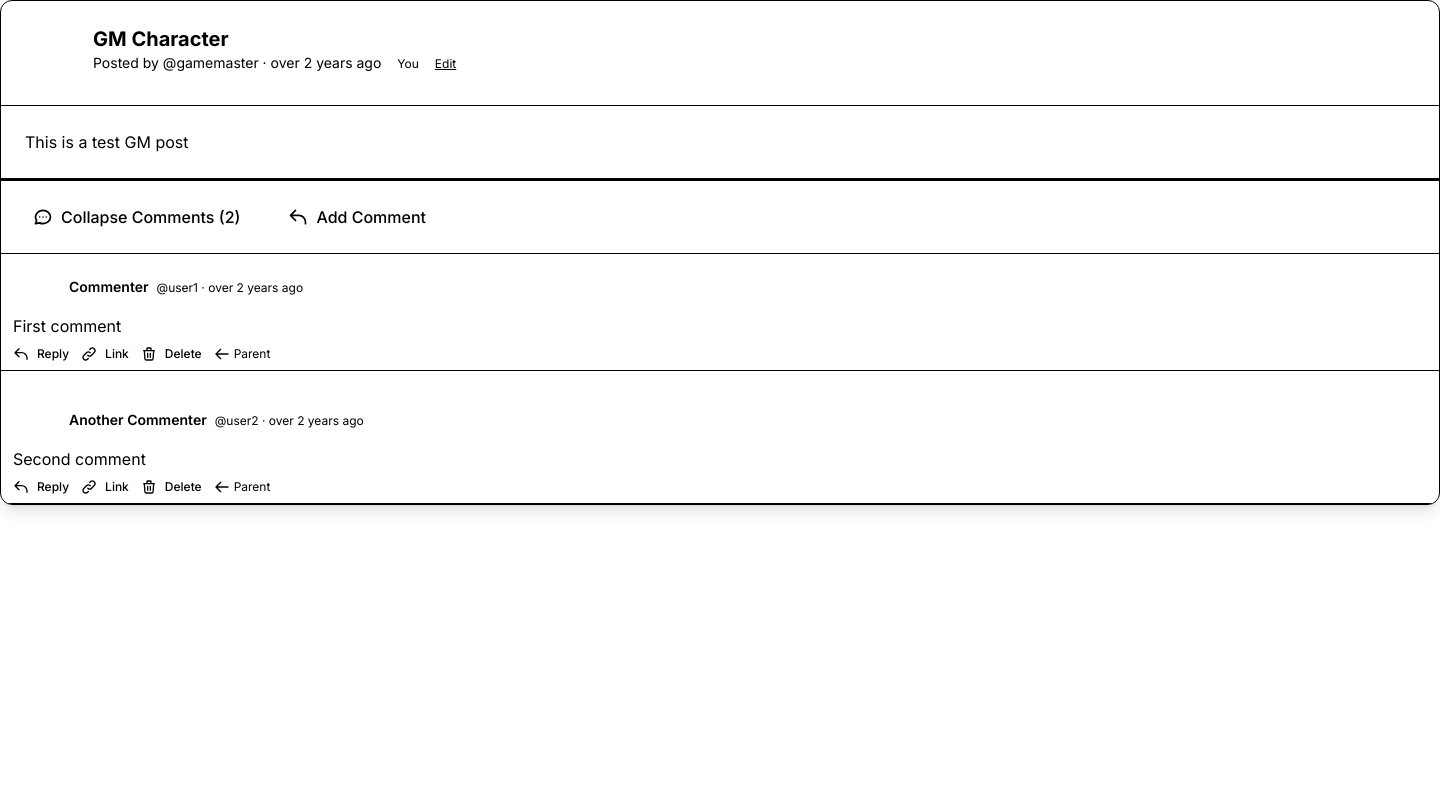
Test: PostCard › Comment Form - Validation › enables submit button when content is valid
Step 1. Click the button "Add Comment" → point(357, 217), box [272,197,442,237]
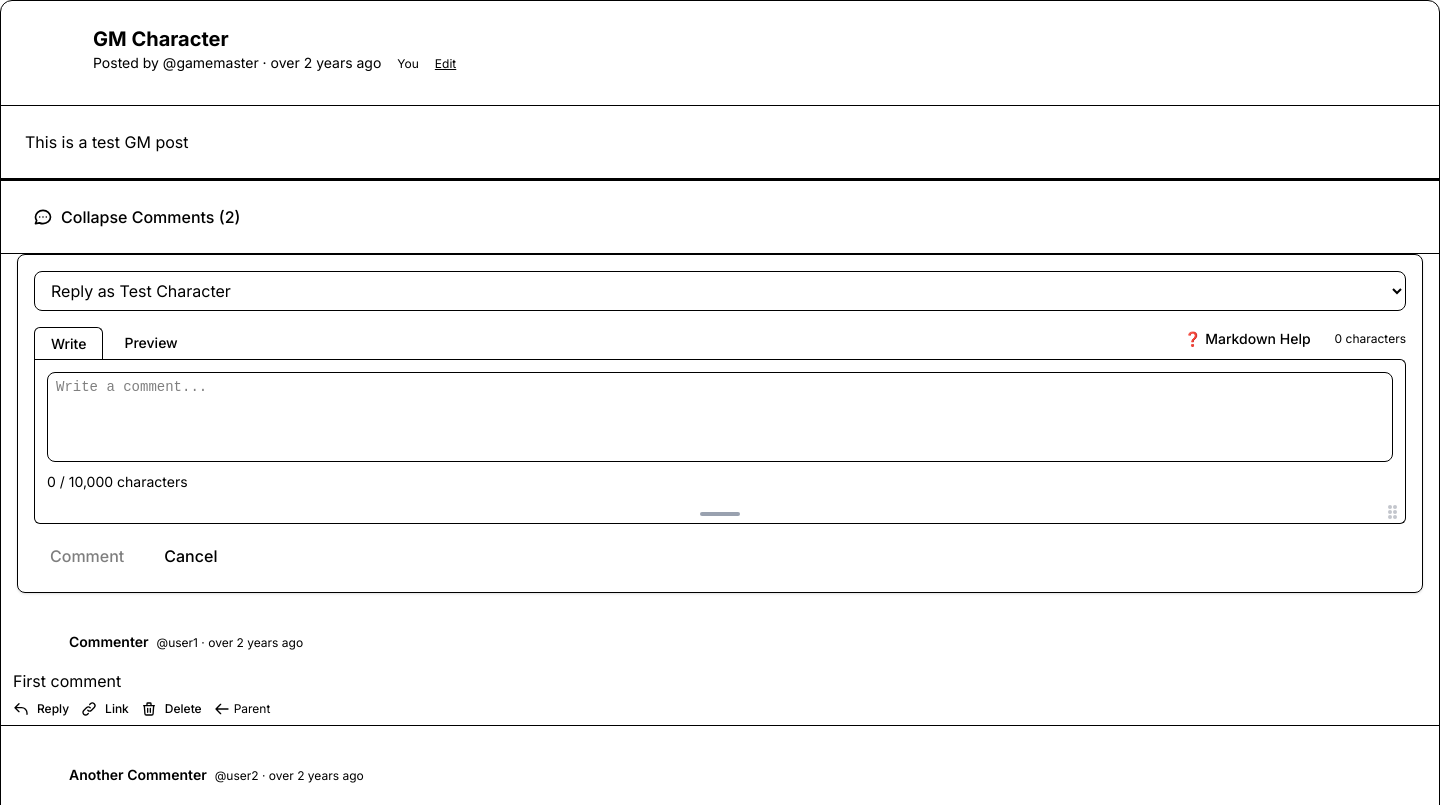
Step 2. Type "Valid comment" into the text box with placeholder "Write a comment..." → point(720, 417), box [47,372,1393,462]
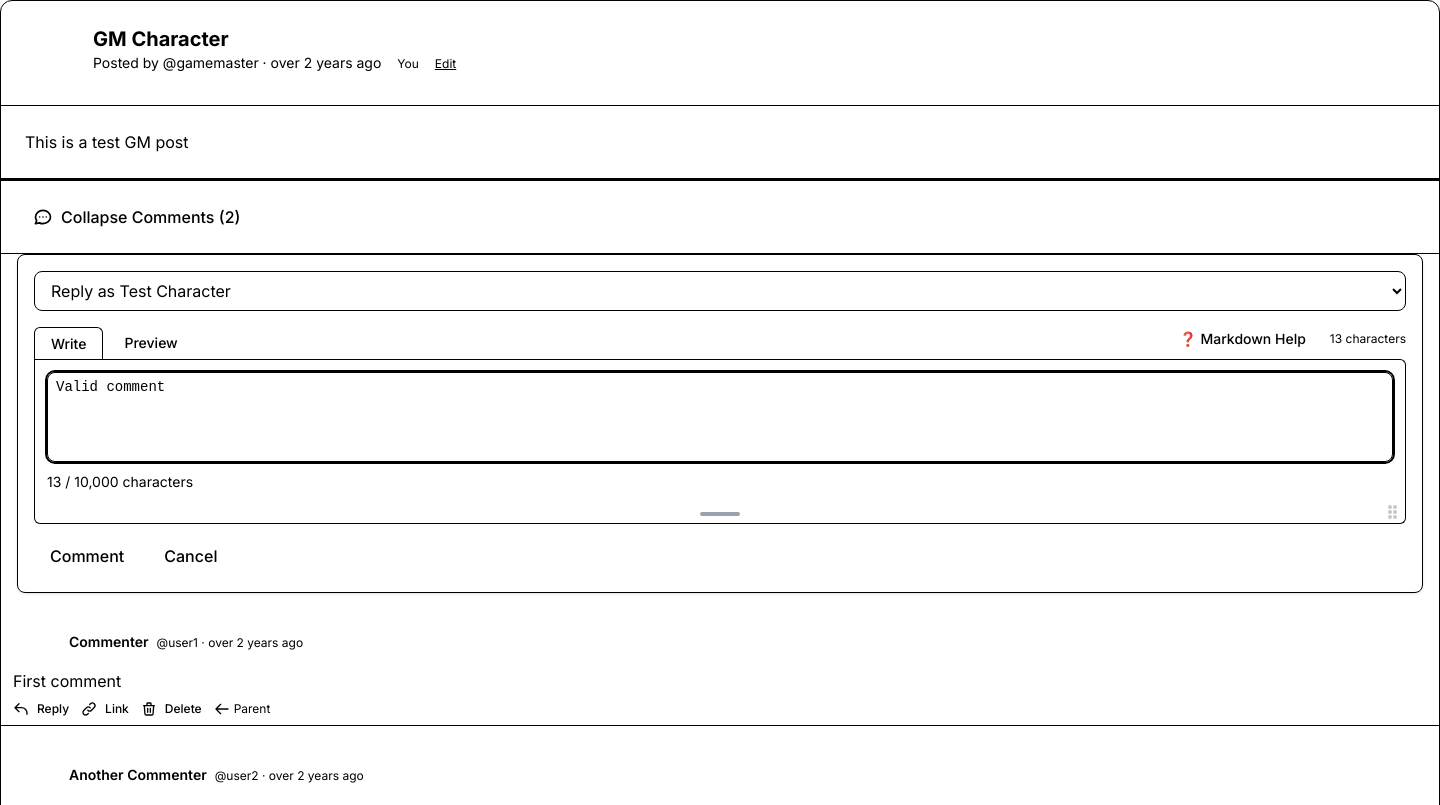
expect the button "Comment" is enabled: met, box [34,536,140,576]
